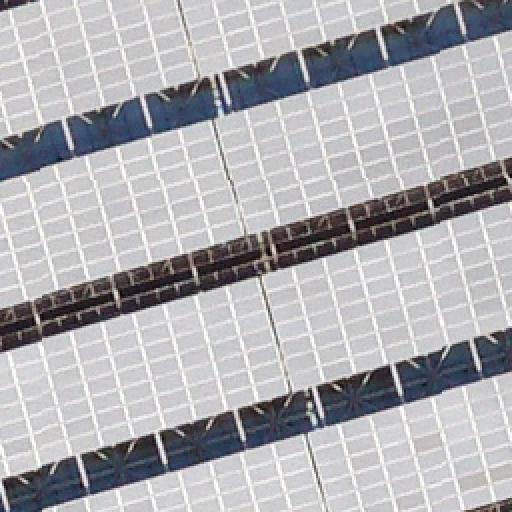solar-panel: (0, 200, 512, 480), (0, 29, 512, 307), (0, 0, 472, 136), (308, 372, 512, 512), (42, 433, 326, 511)
